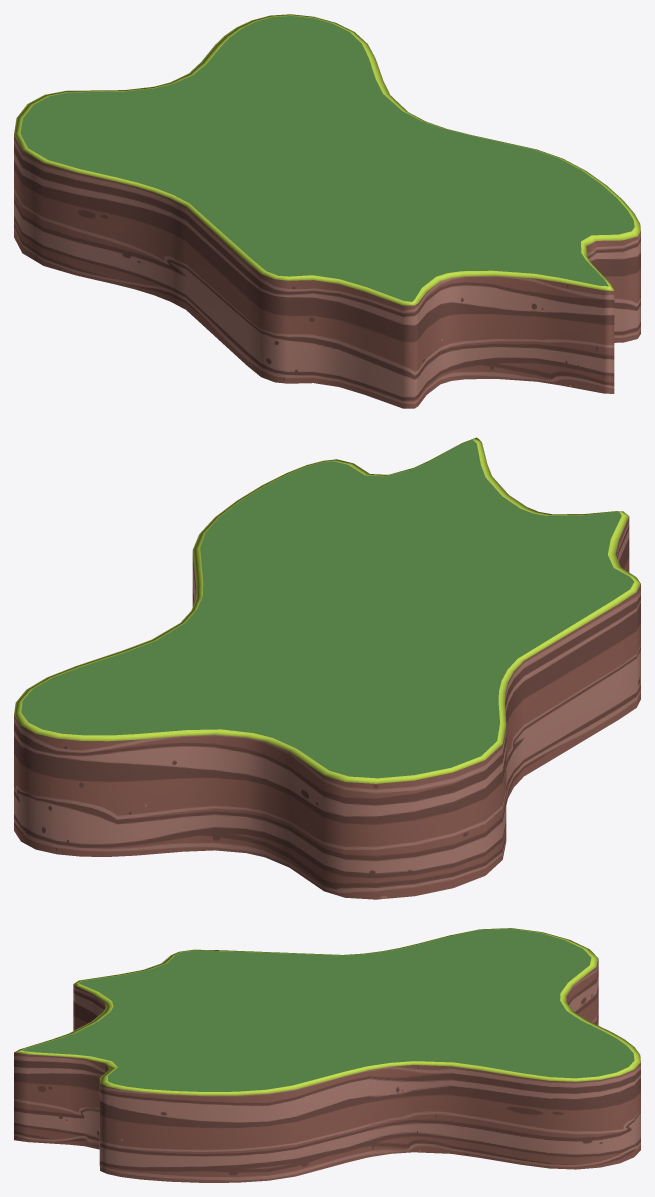
File: grasschunk9.glb
The picture shows the model from 3 angles, top to bottom: view 1: azimuth 30°, elevation 25°; view 2: azimuth 150°, elevation 25°; view 3: azimuth 270°, elevation 25°; orthographic projection. The views are drawn at different scales.
Parts seen in each view (by area): view 1: Plate_Curved_Var16_09_Forest_mat_01_0; view 2: Plate_Curved_Var16_09_Forest_mat_01_0; view 3: Plate_Curved_Var16_09_Forest_mat_01_0.
Boxes of the visible parts, x1,y1,x2,y2 form: Plate_Curved_Var16_09_Forest_mat_01_0: (14,14,640,408); Plate_Curved_Var16_09_Forest_mat_01_0: (14,437,640,899); Plate_Curved_Var16_09_Forest_mat_01_0: (14,928,640,1182).
Size of the model in its own units: 0.13 by 0.0322 by 0.2059.
1 material, 1 textured.
